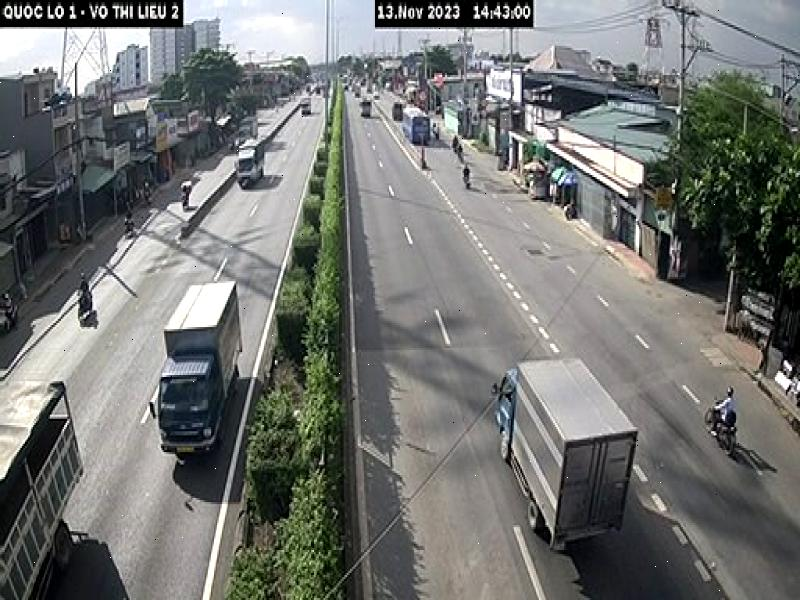truck: (492, 352, 644, 563), (146, 282, 240, 452)
